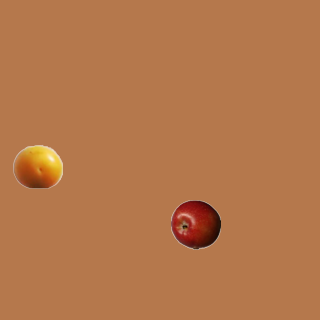Apple Braeburn: (170, 199, 220, 249)
Cherry Wax Yellow: (12, 141, 62, 191)
